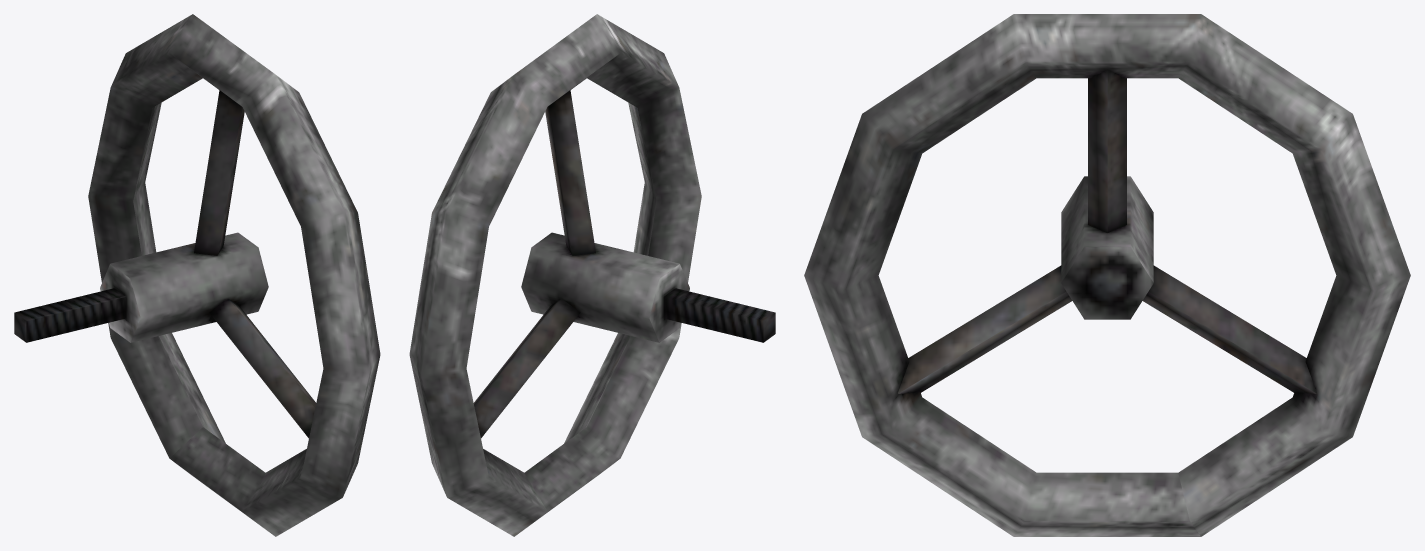
File: acid_machine_valve_x.dae
The picture shows the model from 3 angles, left to right: view 1: azimuth 30°, elevation 25°; view 2: azimuth 150°, elevation 25°; view 3: azimuth 270°, elevation 25°; orthographic projection. The views are drawn at different scales.
Visible parts, largest first — view 1: acid_machine_pipevalv; view 2: acid_machine_pipevalv; view 3: acid_machine_pipevalv.
Boxes of the visible parts, bbox=[...] form: acid_machine_pipevalv: bbox=[14, 14, 380, 536]; acid_machine_pipevalv: bbox=[409, 14, 775, 536]; acid_machine_pipevalv: bbox=[804, 14, 1410, 536].
Size of the model in its own units: 0.146 by 0.2797 by 0.2661.
